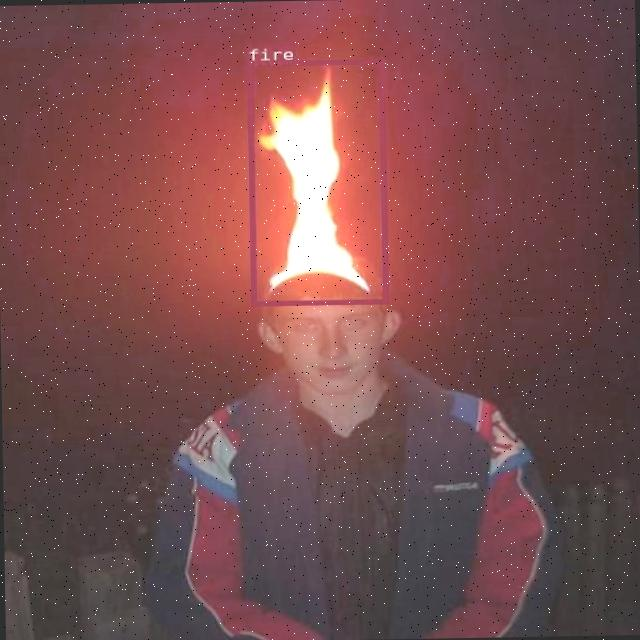fire: (246, 58, 386, 304)
